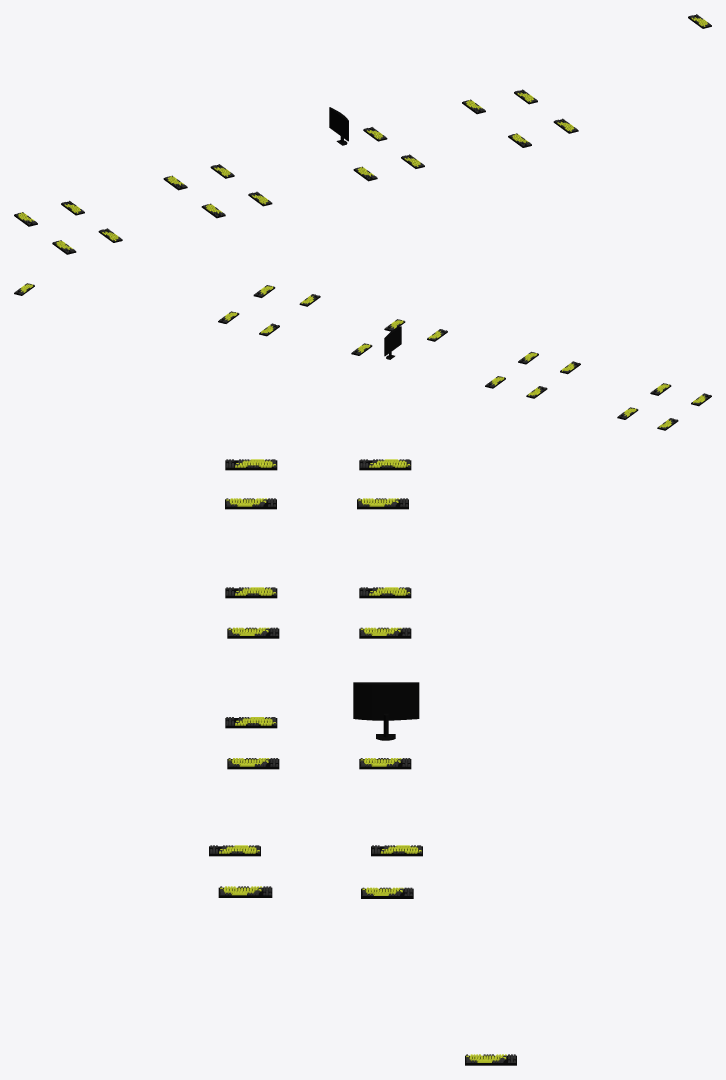
File: TastiereEvonove.dae
3 renders of one model, top to bottom at view 1: azimuth 30°, elevation 25°; view 2: azimuth 150°, elevation 25°; view 3: azimuth 270°, elevation 25°, orthographic. The views are drawn at different scales.
Parts seen in each view (by area): view 1: Monitor8; view 2: Monitor8; view 3: Monitor8.
Boxes of the visible parts, x1,y1,x2,y2 form: Monitor8: [329, 107, 348, 145]; Monitor8: [384, 326, 401, 359]; Monitor8: [353, 682, 419, 740].
Bounding box in the file's own units: 15.76 × 3.36 × 0.626.
